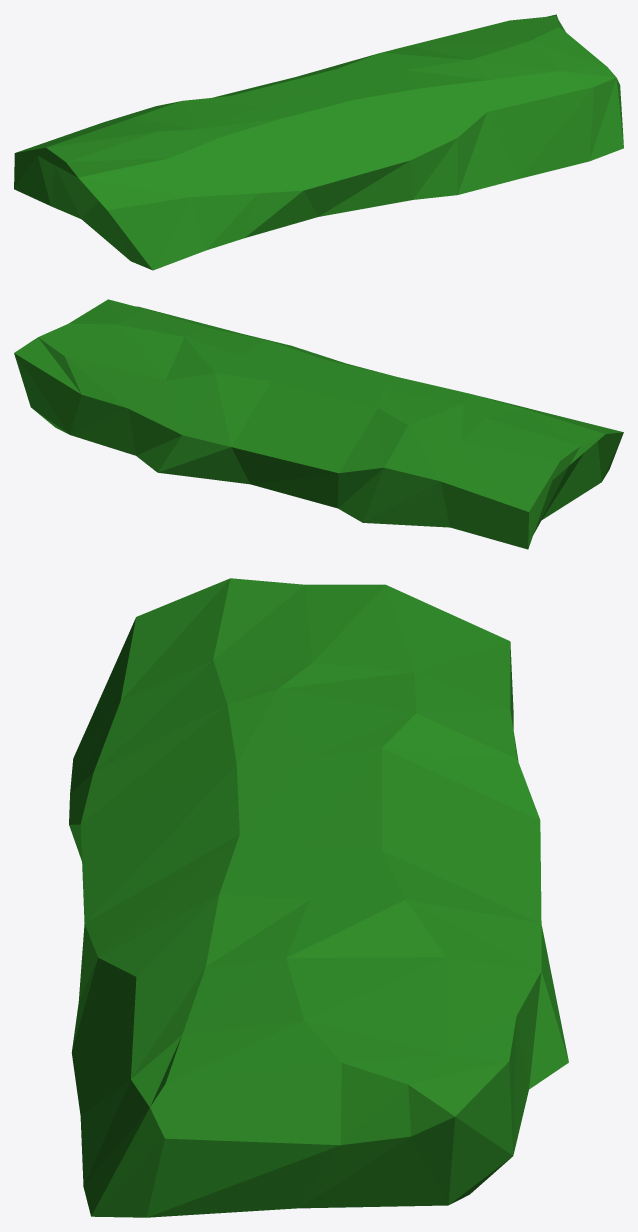
The model's file is o_grass_medium.FBX.
3 views of the same model, one above another, from view 1: azimuth 30°, elevation 25°; view 2: azimuth 150°, elevation 25°; view 3: azimuth 270°, elevation 25° (orthographic). The views are drawn at different scales.
Visible parts, largest first — view 1: O_Grass_Medium; view 2: O_Grass_Medium; view 3: O_Grass_Medium.
Boxes of the visible parts, x1=… form: O_Grass_Medium: x1=14, y1=14, x2=623, y2=270; O_Grass_Medium: x1=14, y1=299, x2=623, y2=549; O_Grass_Medium: x1=69, y1=578, x2=568, y2=1217.
Bounding box in the file's own units: 468 × 67.85 × 189.
